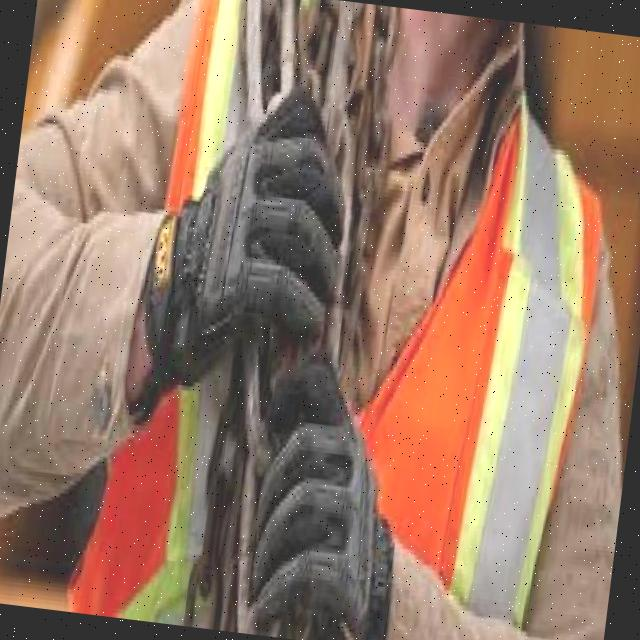vest: (76, 0, 626, 640)
